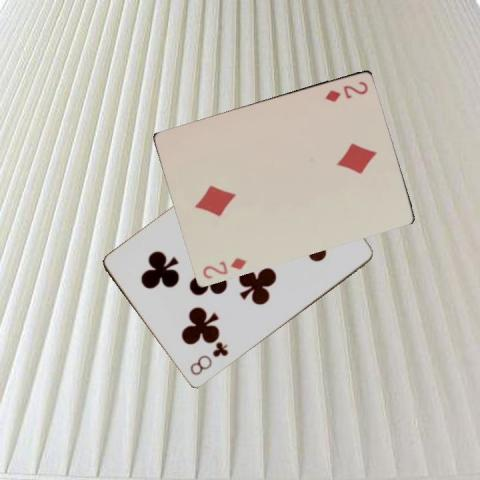2d: (199, 254, 248, 280), (322, 78, 369, 103)
8c: (187, 340, 230, 377)
